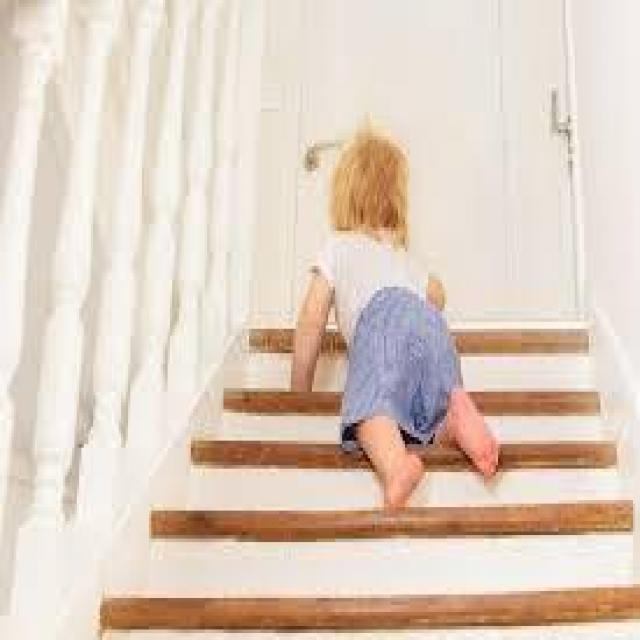child: (284, 116, 503, 518)
